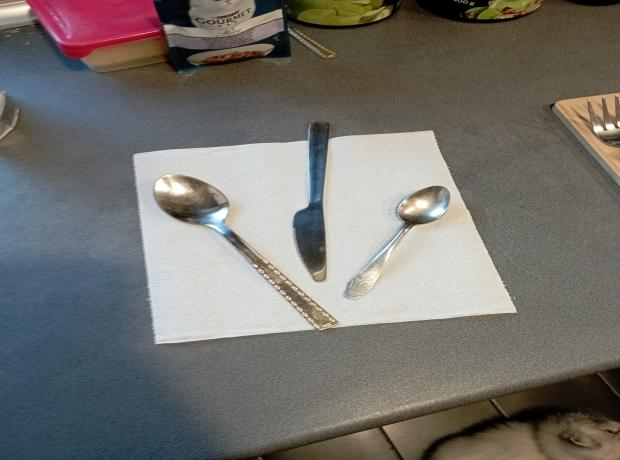metal: (153, 173, 340, 332), (341, 185, 453, 300), (294, 123, 337, 282)
